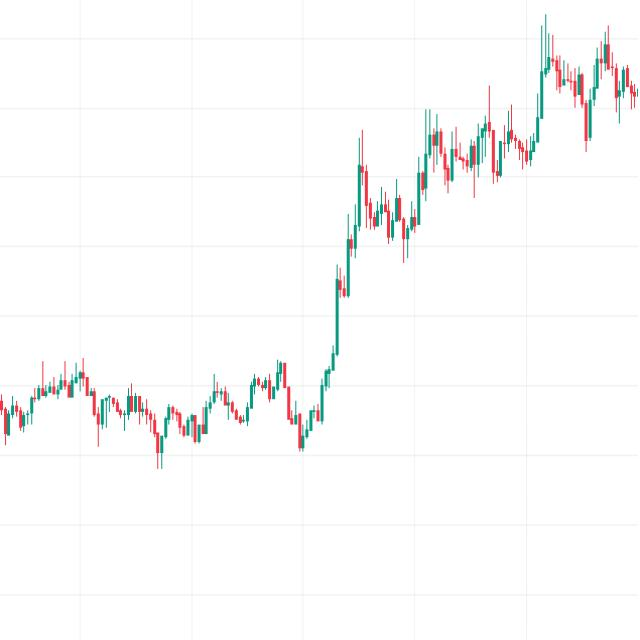rectangle: (0, 352, 341, 472)
